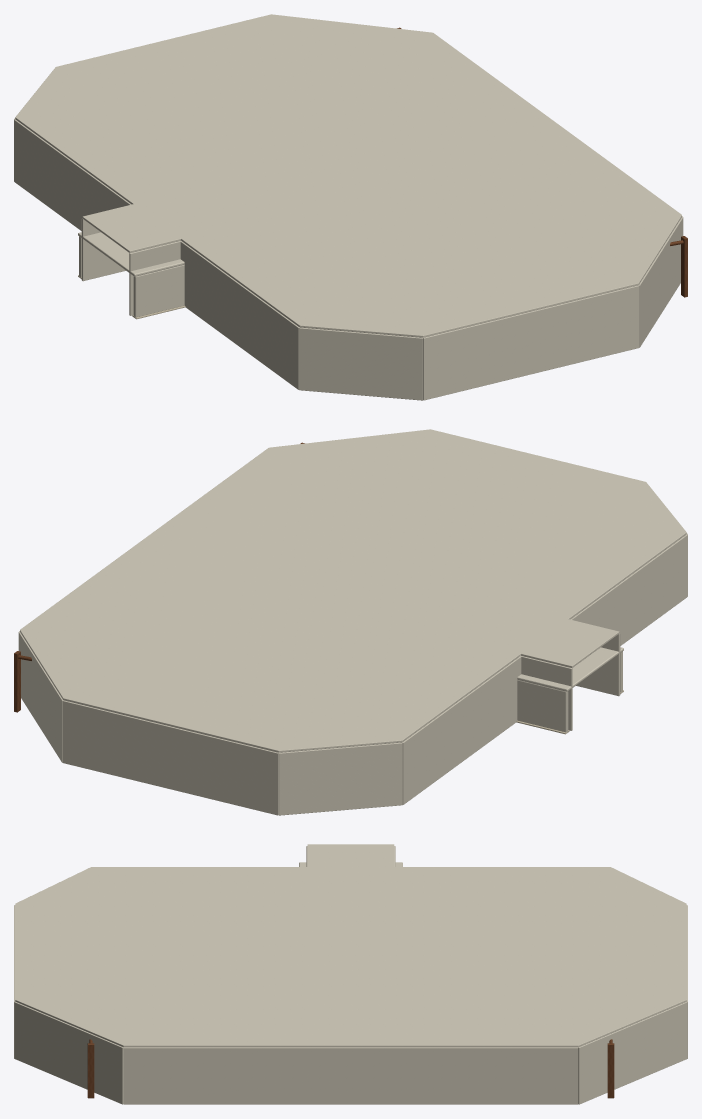
The model's file is SOL_D09_directory_02_source001.glb.
3 views of the same model, one above another, from view 1: azimuth 30°, elevation 25°; view 2: azimuth 150°, elevation 25°; view 3: azimuth 270°, elevation 25° (orthographic). The views are drawn at different scales.
Visible parts, largest first — view 1: Enclosure_top, Perimeter_7, Perimeter_8, Perimeter_9, Perimeter_1, Perimeter_6, Entry_pier_38.6, Perimeter_0, Entry_lintel, Perimeter_10; view 2: Enclosure_top, Perimeter_3, Perimeter_2, Perimeter_1, Perimeter_9, Perimeter_4, Entry_pier_29.4, Perimeter_10, Entry_lintel, Perimeter_0; view 3: Enclosure_top, Perimeter_5, Perimeter_4, Perimeter_6, Rib_pier_0_42.5, Rib_pier_3_42.5.
Part boxes in pixels (left/top/right/bottom): Enclosure_top: left=15, top=14, right=681, bottom=337; Perimeter_7: left=423, top=285, right=639, bottom=400; Perimeter_8: left=299, top=327, right=423, bottom=400; Perimeter_9: left=180, top=241, right=299, bottom=389; Perimeter_1: left=14, top=119, right=131, bottom=230; Perimeter_6: left=638, top=217, right=683, bottom=347; Entry_pier_38.6: left=133, top=264, right=184, bottom=317; Perimeter_0: left=81, top=218, right=125, bottom=281; Entry_lintel: left=78, top=232, right=184, bottom=276; Perimeter_10: left=129, top=241, right=180, bottom=315; Enclosure_top: left=20, top=429, right=686, bottom=752; Perimeter_3: left=62, top=700, right=278, bottom=815; Perimeter_2: left=278, top=742, right=402, bottom=815; Perimeter_1: left=402, top=656, right=521, bottom=804; Perimeter_9: left=570, top=534, right=687, bottom=645; Perimeter_4: left=18, top=632, right=63, bottom=762; Entry_pier_29.4: left=517, top=679, right=568, bottom=732; Perimeter_10: left=576, top=633, right=620, bottom=696; Entry_lintel: left=517, top=647, right=623, bottom=691; Perimeter_0: left=521, top=656, right=572, bottom=730; Enclosure_top: left=15, top=844, right=686, bottom=1047; Perimeter_5: left=123, top=1047, right=578, bottom=1104; Perimeter_4: left=578, top=1001, right=687, bottom=1104; Perimeter_6: left=14, top=1001, right=123, bottom=1104; Rib_pier_0_42.5: left=607, top=1043, right=614, bottom=1098; Rib_pier_3_42.5: left=87, top=1043, right=94, bottom=1098.
Size of the model in its own units: 44.11 by 6 by 62.22.
15 materials, 15 textured.
